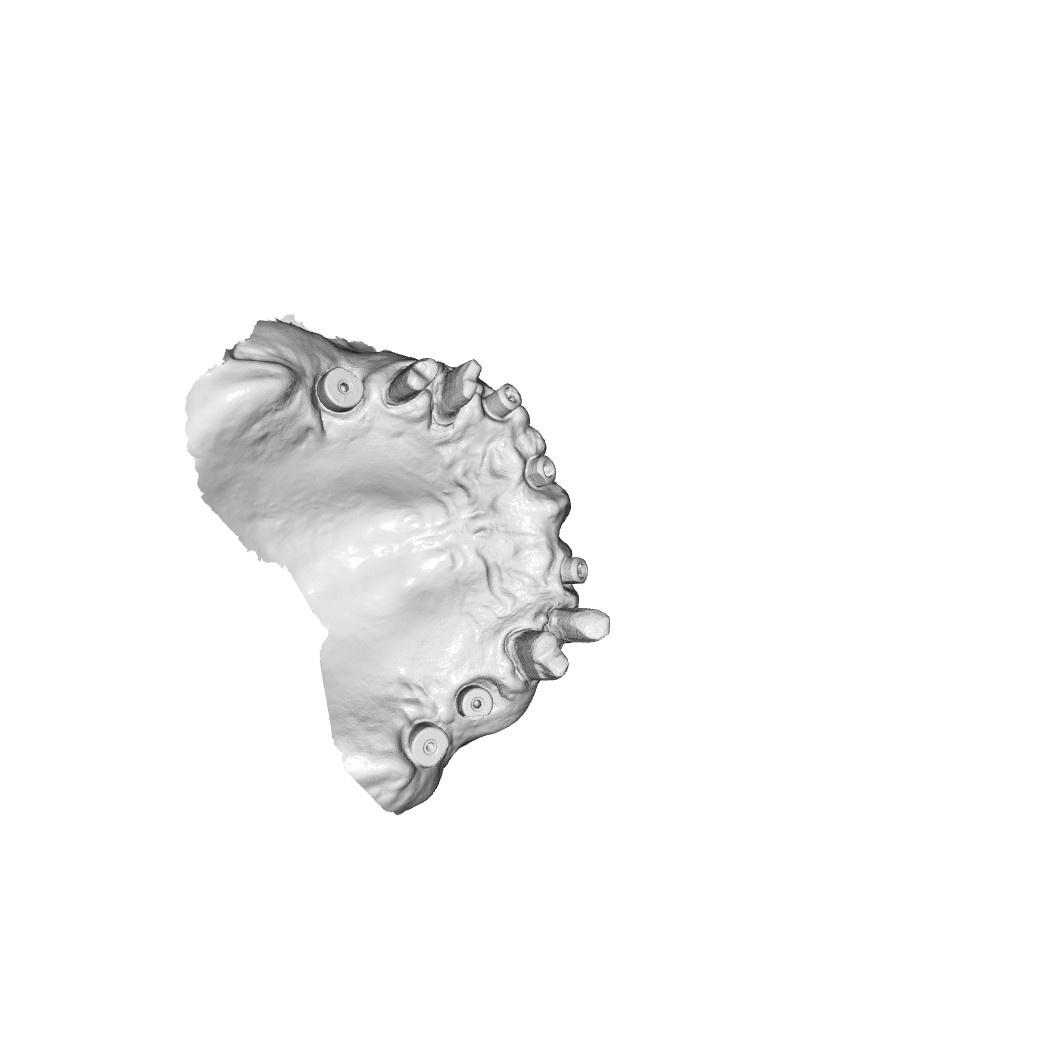crown: (385, 343, 439, 417), (432, 353, 483, 424), (514, 631, 571, 693), (550, 601, 616, 644)
implant: (407, 722, 452, 768), (483, 379, 531, 421), (322, 368, 363, 410), (457, 684, 493, 723), (529, 450, 557, 491), (561, 553, 592, 584)
